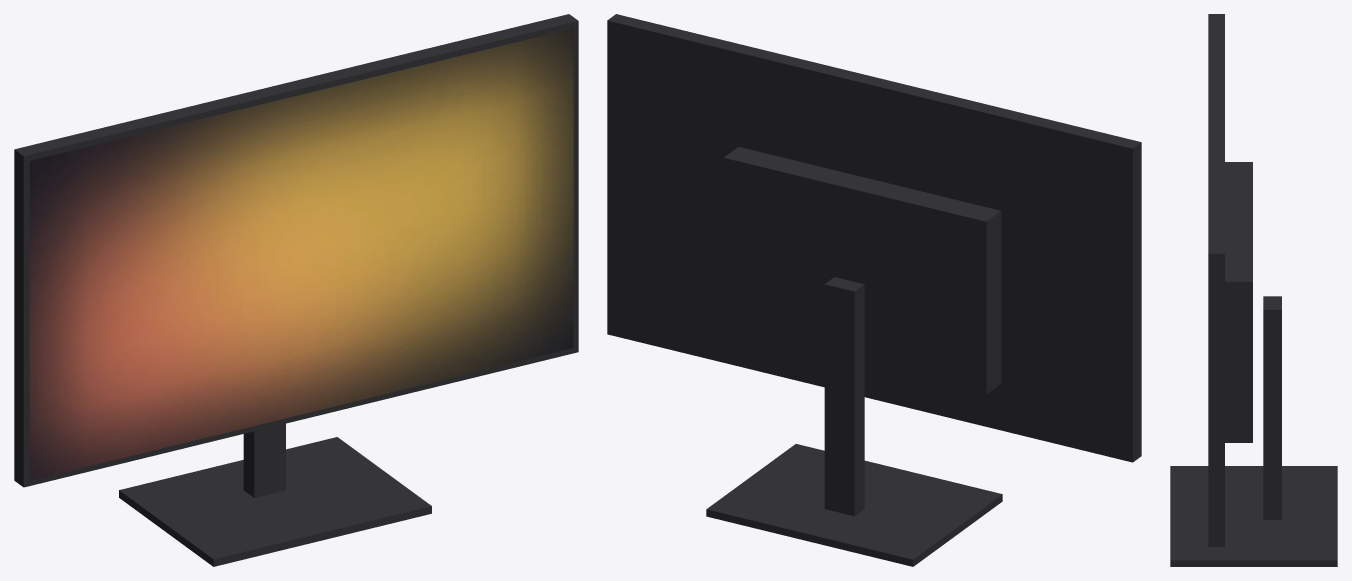
Rendered from obj-monitor-27.glb.
3 renders of one model, left to right at view 1: azimuth 30°, elevation 25°; view 2: azimuth 150°, elevation 25°; view 3: azimuth 270°, elevation 25°, orthographic. The views are drawn at different scales.
Visible parts, largest first — view 1: obj-monitor-27; view 2: obj-monitor-27; view 3: obj-monitor-27.
Boxes of the visible parts, x1,y1,x2,y2 form: obj-monitor-27: [14, 14, 578, 566]; obj-monitor-27: [607, 14, 1141, 566]; obj-monitor-27: [1170, 14, 1337, 566].
Size of the model in its own units: 0.61 by 0.458 by 0.18.
Materials: 2 (1 with a texture image).
